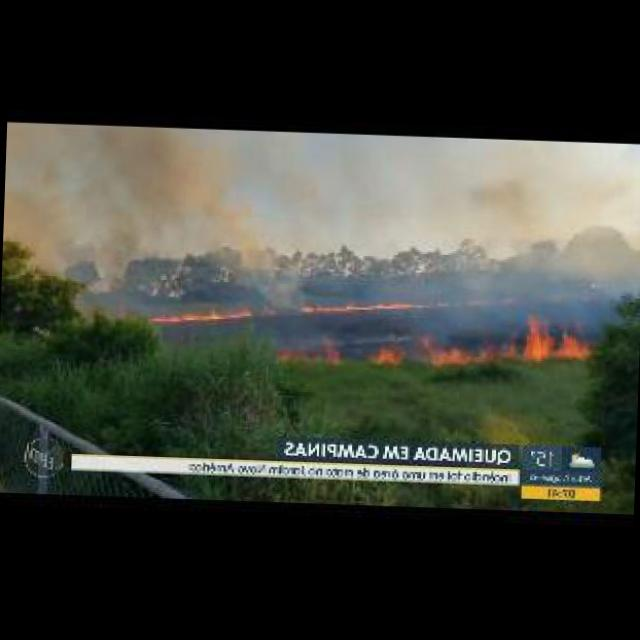fire: (418, 313, 596, 371), (302, 294, 422, 316), (154, 304, 254, 324), (373, 342, 407, 367)
